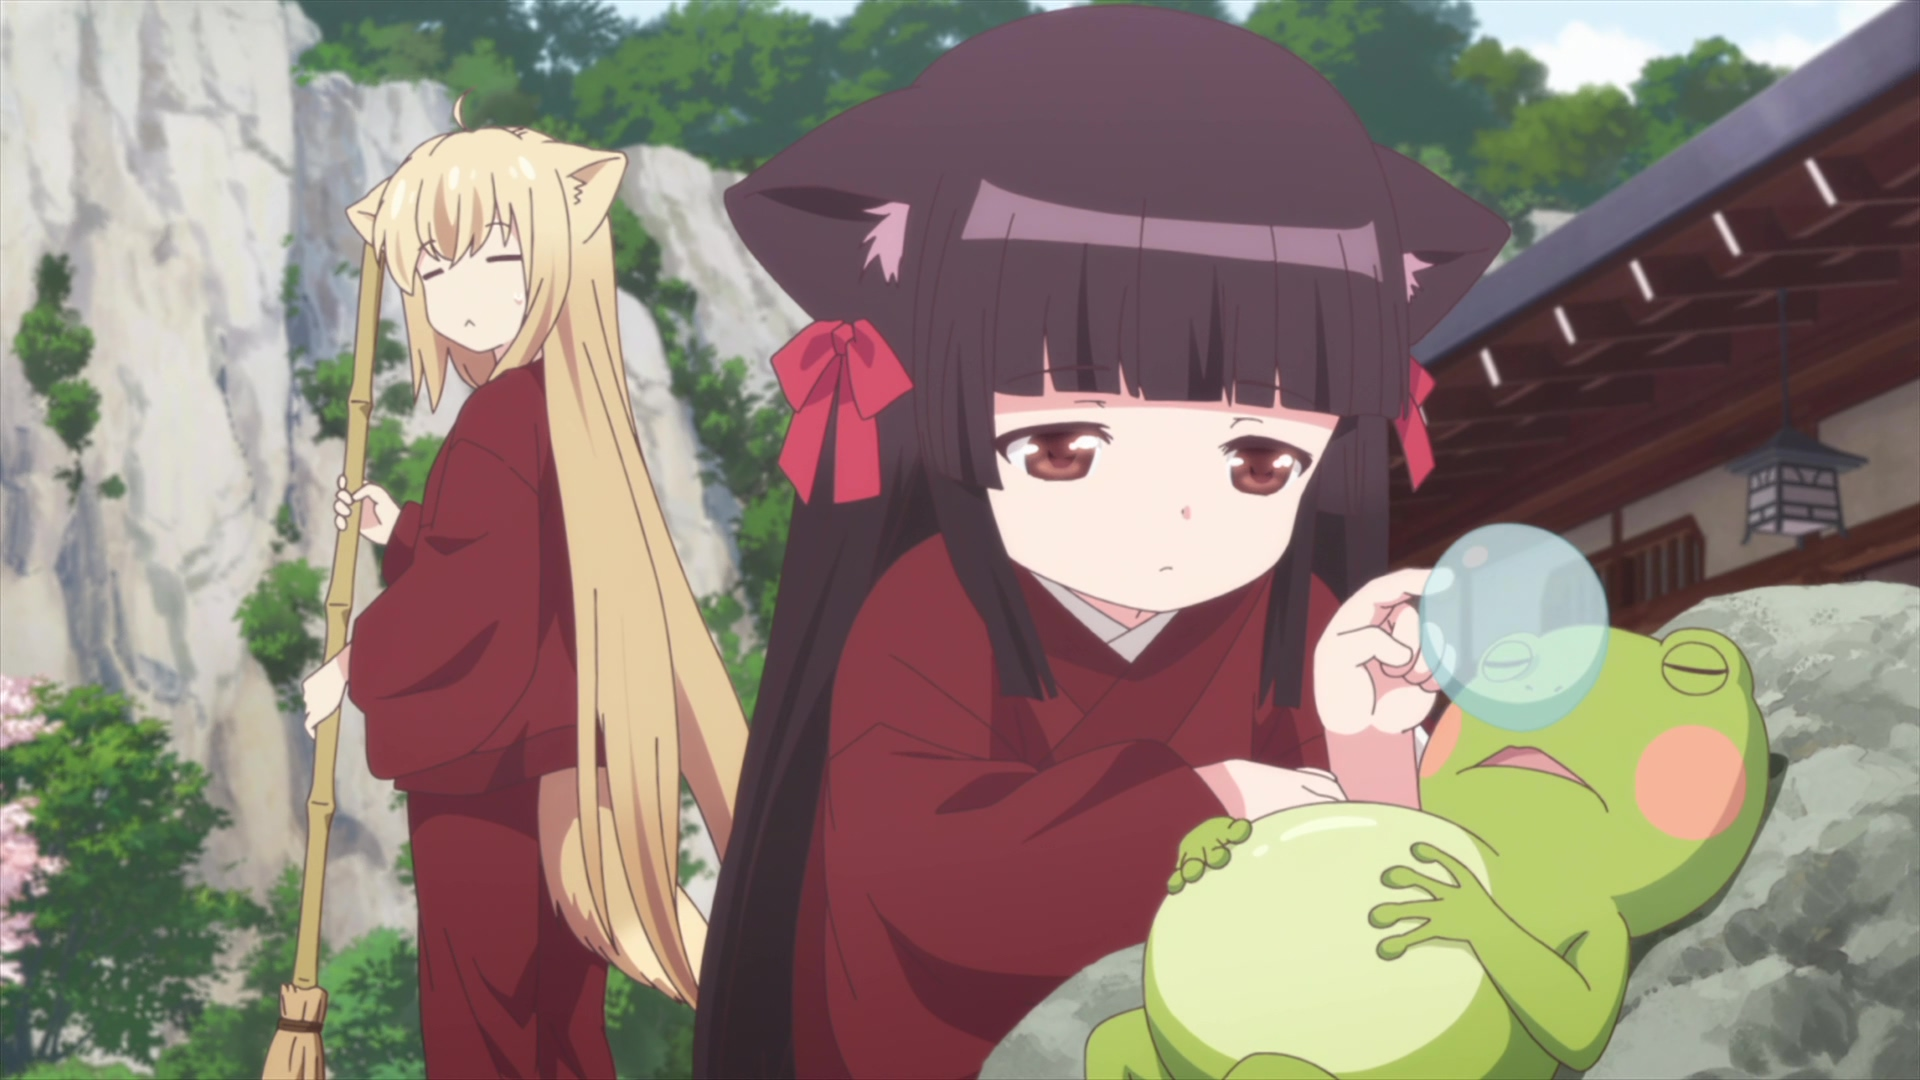其他: (1083, 524, 1768, 1080)
柚: (301, 95, 749, 1080)
樱: (692, 1, 1509, 1080)
